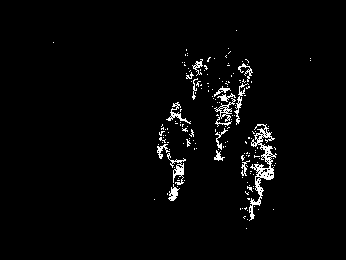person: (238, 120, 279, 224), (164, 100, 195, 204), (209, 81, 241, 164)
